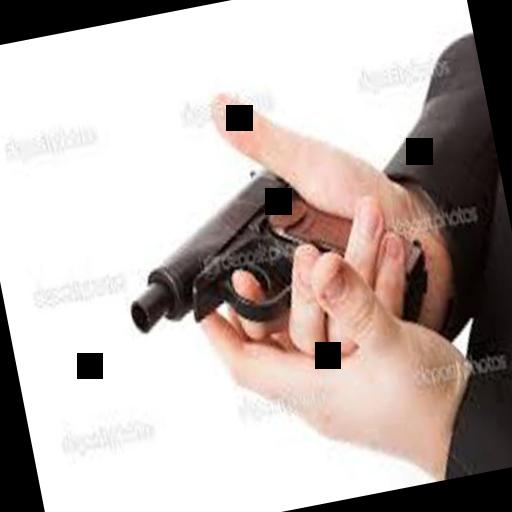Handgun: (104, 106, 440, 380)
